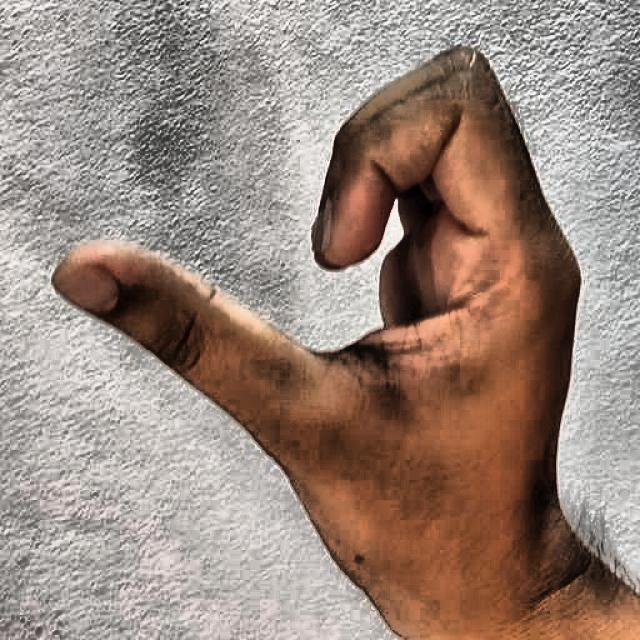Kha: (18, 12, 603, 606)
